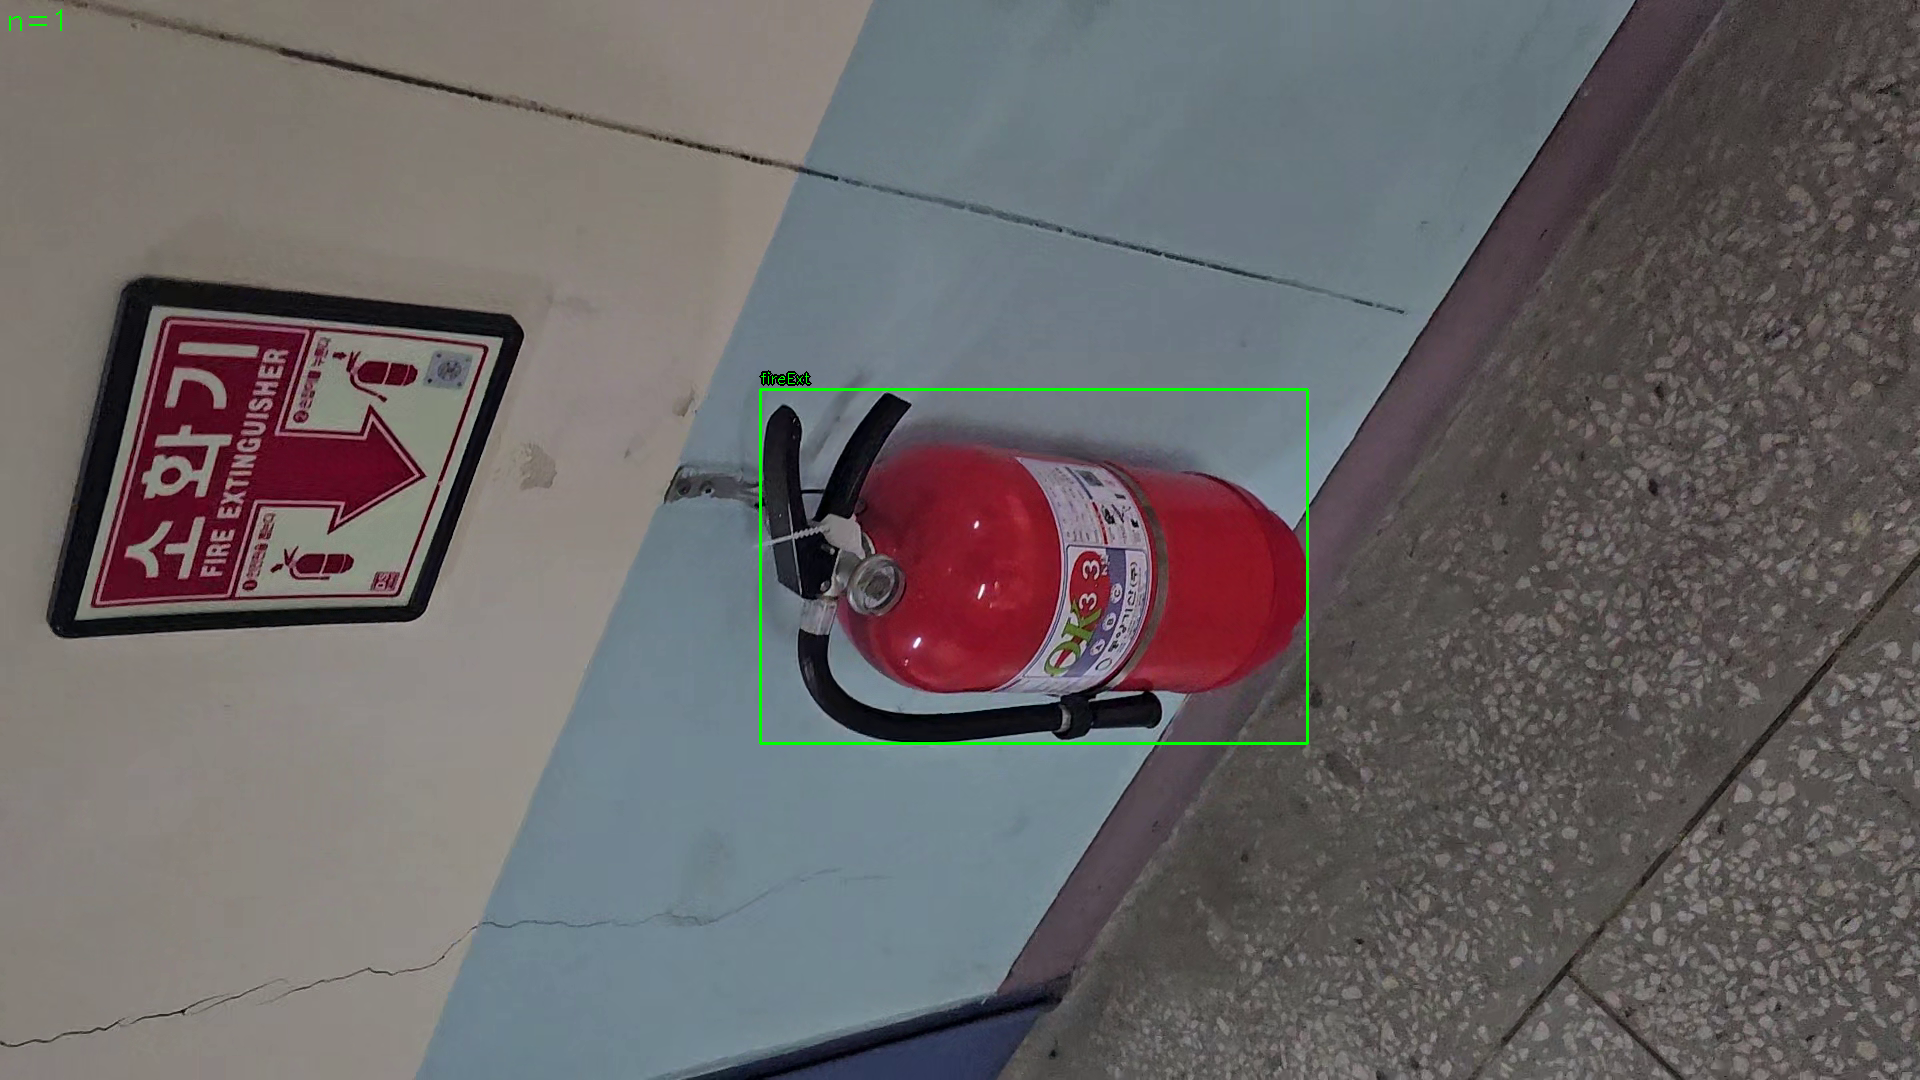lane: (760, 389, 1308, 744)
